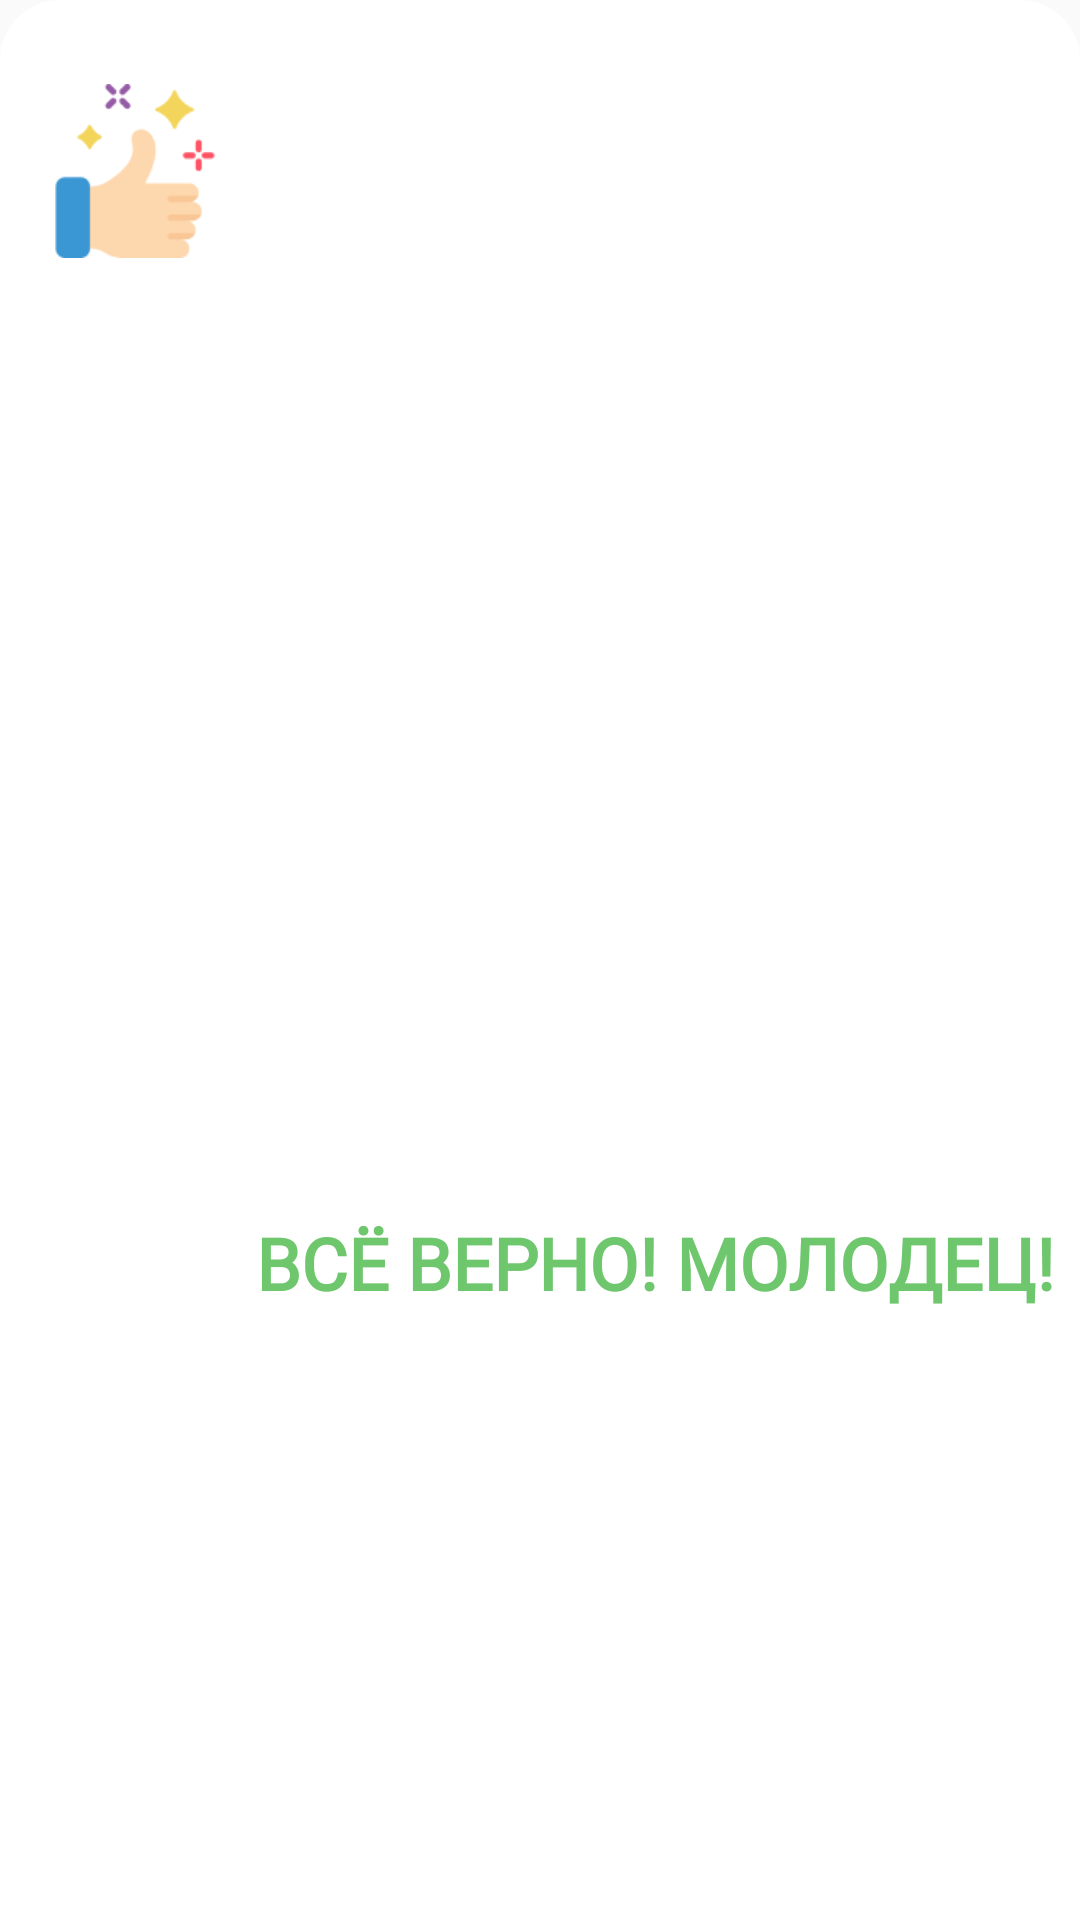

Icons on this 1080 x 1920 Android screen, each with its box as bbox=[x1, y1, x2, y2]:
like: bbox=[55, 84, 215, 258]
